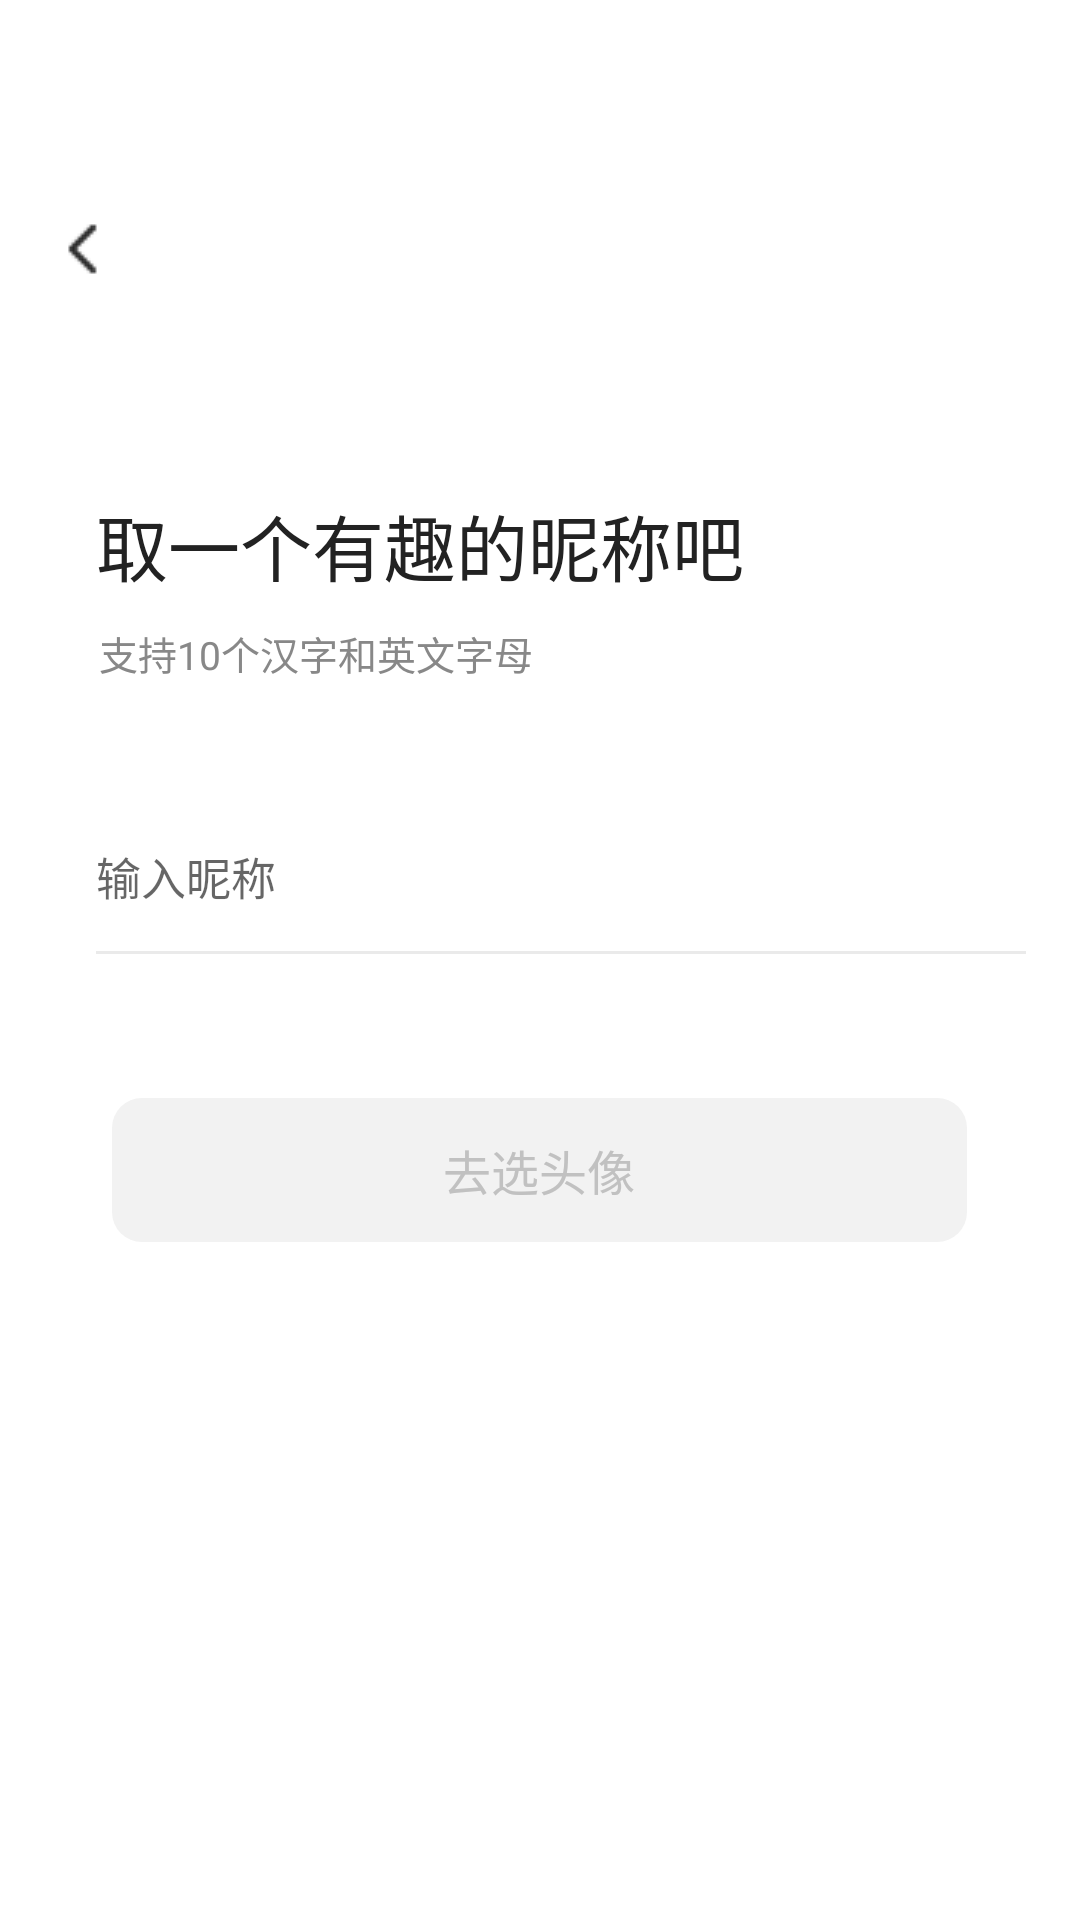

Screen size 1080w x 1920h. Icon name, then its box in pixels as (x1, y1, x2, y2):
back: (68, 224, 97, 274)
